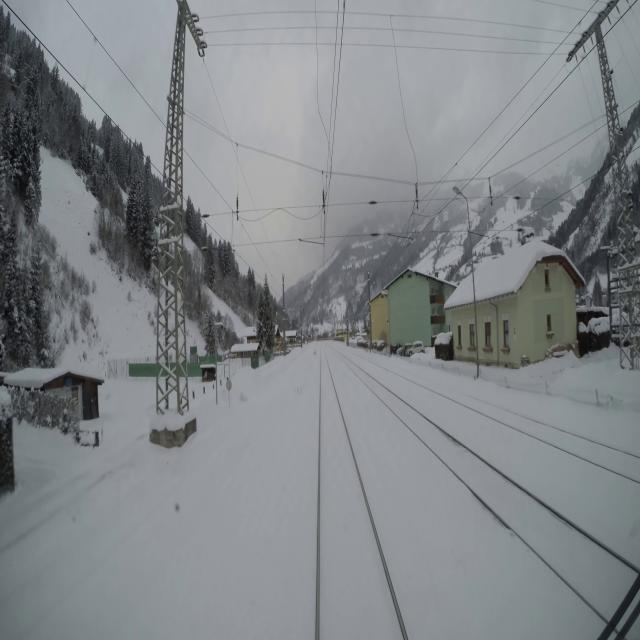rail-track: (350, 364, 638, 619), (321, 350, 404, 639), (419, 380, 640, 478)
